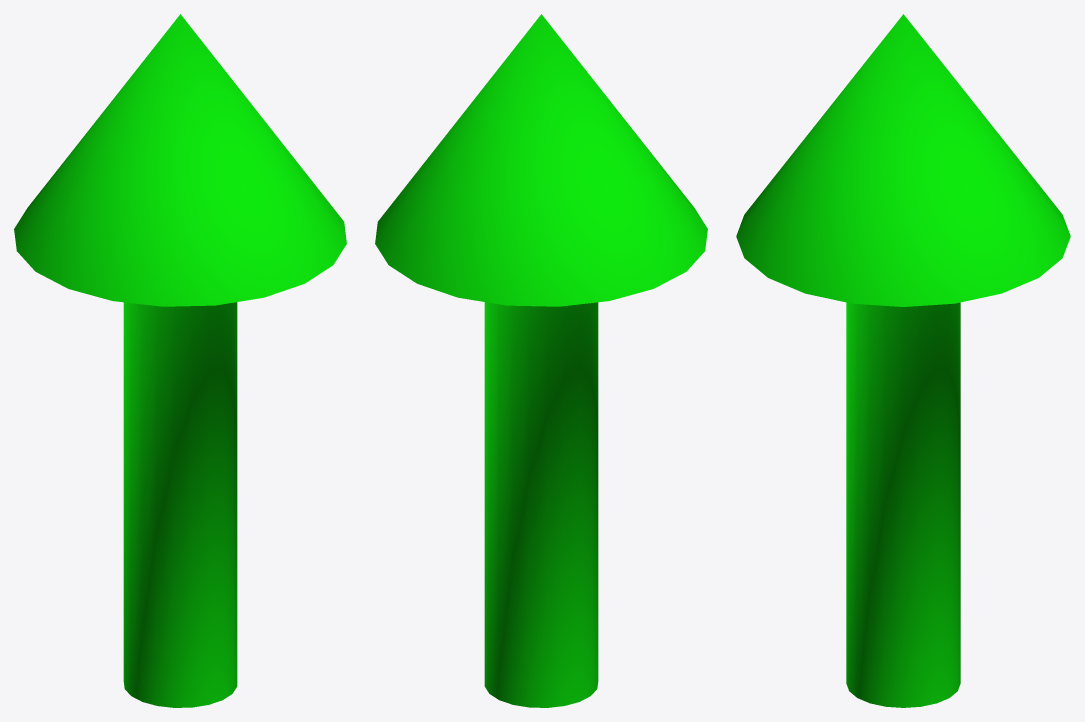
Rendered from UpArrow.fbx.
3 renders of one model, left to right at view 1: azimuth 30°, elevation 25°; view 2: azimuth 150°, elevation 25°; view 3: azimuth 270°, elevation 25°, orthographic.
Visible parts, largest first — view 1: pCylinder1; view 2: pCylinder1; view 3: pCylinder1.
Boxes of the visible parts, bbox=[...] form: pCylinder1: bbox=[14, 14, 346, 707]; pCylinder1: bbox=[375, 14, 707, 707]; pCylinder1: bbox=[736, 14, 1070, 707].
Size of the model in its own units: 0.7482 by 1.65 by 0.7482.
